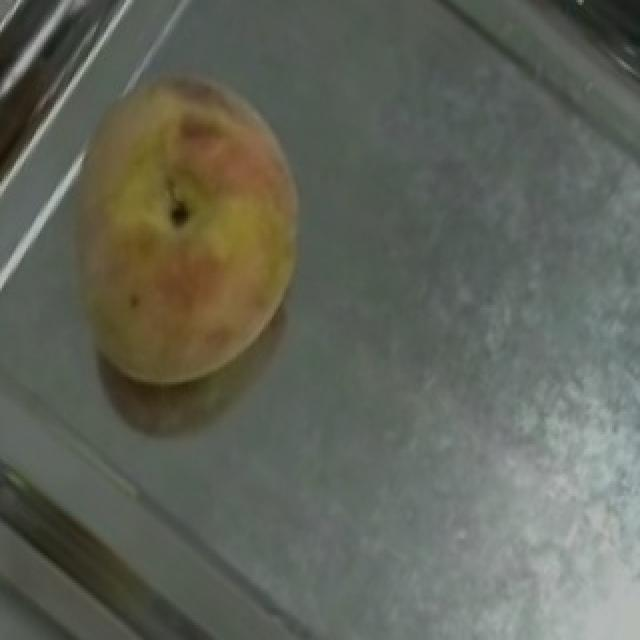Fruit: (16, 25, 358, 434)
